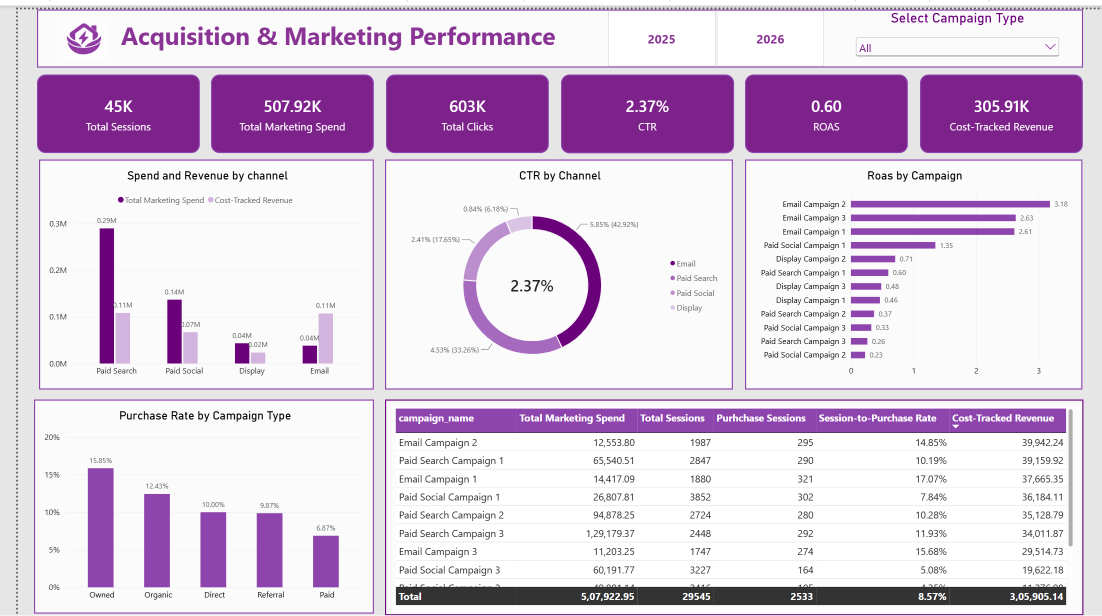

Layout of this report page (visuals, bound fields, positions):
{"tool":"powerbi","page":{"name":"Acquisition and Marketing Peroformance","canvas":[1920,1080],"ordinal":1},"visuals":[{"type":"textbox","box":[33.4,0,1836.9,101.9],"z":0},{"type":"card","fields":{"Values":["Measures Table.Total Sessions"]},"box":[32.5,114.7,286,138],"z":1000},{"type":"slicer","fields":{"Values":["DateTable.Year"]},"box":[850,0,583,101.9],"z":2000},{"type":"card","fields":{"Values":["Measures Table.Total Clicks"]},"box":[646,114.1,286,138],"z":3000},{"type":"card","fields":{"Values":["Measures Table.CTR"]},"box":[952.7,114.1,303.8,138.7],"z":4000},{"type":"card","fields":{"Values":["Measures Table.ROAS"]},"box":[1277.3,114.1,286,138],"z":5000},{"type":"card","fields":{"Values":["Measures Table.Cost-Tracked Revenue"]},"box":[1584,114.1,286,138],"z":6000},{"type":"donutChart","title":"CTR  by Channel","fields":{"Category":["Vsch campaigns.channel"],"Y":["Measures Table.CTR"]},"box":[645.4,264.1,610.9,404.2],"z":7000},{"type":"barChart","title":"Roas by Campaign","fields":{"Category":["Vsch campaigns.campaign_name"],"Y":["Measures Table.ROAS"]},"box":[1276.9,264.1,592.5,404.2],"z":8000},{"type":"clusteredColumnChart","title":" Spend and Revenue by channel","fields":{"Category":["Vsch campaigns.channel"],"Y":["Measures Table.Total Marketing Spend","Measures Table.Cost-Tracked Revenue"]},"box":[36.7,264.1,587.9,404.2],"z":9000},{"type":"tableEx","fields":{"Values":["Vsch campaigns.campaign_name","Measures Table.Total Marketing Spend","Measures Table.Total Sessions","Measures Table.Purhchase Sessions","Measures Table.Sessions to Purchase Rate","Measures Table.Cost-Tracked Revenue"]},"box":[645.4,684.4,1226.4,378.9],"z":10000},{"type":"card","fields":{"Values":["Measures Table.Total Marketing Spend"]},"box":[339.2,114.7,286,138],"z":11000},{"type":"clusteredColumnChart","title":"Purchase Rate by Campaign Type","fields":{"Category":["Vsch campaigns.campaign_type"],"Y":["Measures Table.Sessions to Purchase Rate"]},"box":[27.6,684.4,597.1,375.8],"z":12000},{"type":"slicer","title":"Select Campaign Type","fields":{"Values":["Vsch campaigns.campaign_type"]},"box":[1466.3,0,367.2,101.4],"z":13000}]}

Visuals, with their boxes in screenshot pixels (x1, y1, x2, y2), scaled from the page's 1920x1080 canvas onto the 1102x616 screenshot:
textbox: <region>19, 0, 1073, 58</region>
card - Measures Table.Total Sessions: <region>19, 65, 183, 144</region>
slicer - DateTable.Year: <region>488, 0, 822, 58</region>
card - Measures Table.Total Clicks: <region>371, 65, 535, 144</region>
card - Measures Table.CTR: <region>547, 65, 721, 144</region>
card - Measures Table.ROAS: <region>733, 65, 897, 144</region>
card - Measures Table.Cost-Tracked Revenue: <region>909, 65, 1073, 144</region>
"CTR  by Channel" donutChart: <region>370, 151, 721, 381</region>
"Roas by Campaign" barChart: <region>733, 151, 1073, 381</region>
" Spend and Revenue by channel" clusteredColumnChart: <region>21, 151, 358, 381</region>
tableEx - Vsch campaigns.campaign_name x Measures Table.Total Marketing Spend: <region>370, 390, 1074, 606</region>
card - Measures Table.Total Marketing Spend: <region>195, 65, 359, 144</region>
"Purchase Rate by Campaign Type" clusteredColumnChart: <region>16, 390, 359, 605</region>
"Select Campaign Type" slicer: <region>842, 0, 1052, 58</region>
